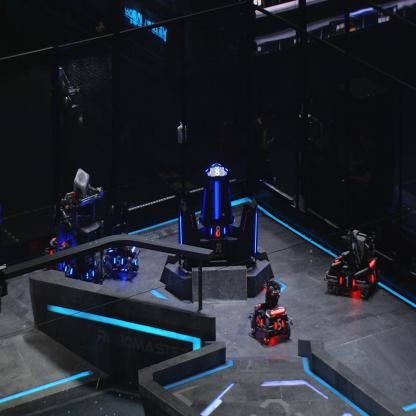car: (59, 188, 106, 286), (326, 225, 380, 298), (249, 275, 294, 345), (102, 220, 139, 280), (44, 226, 72, 271)
